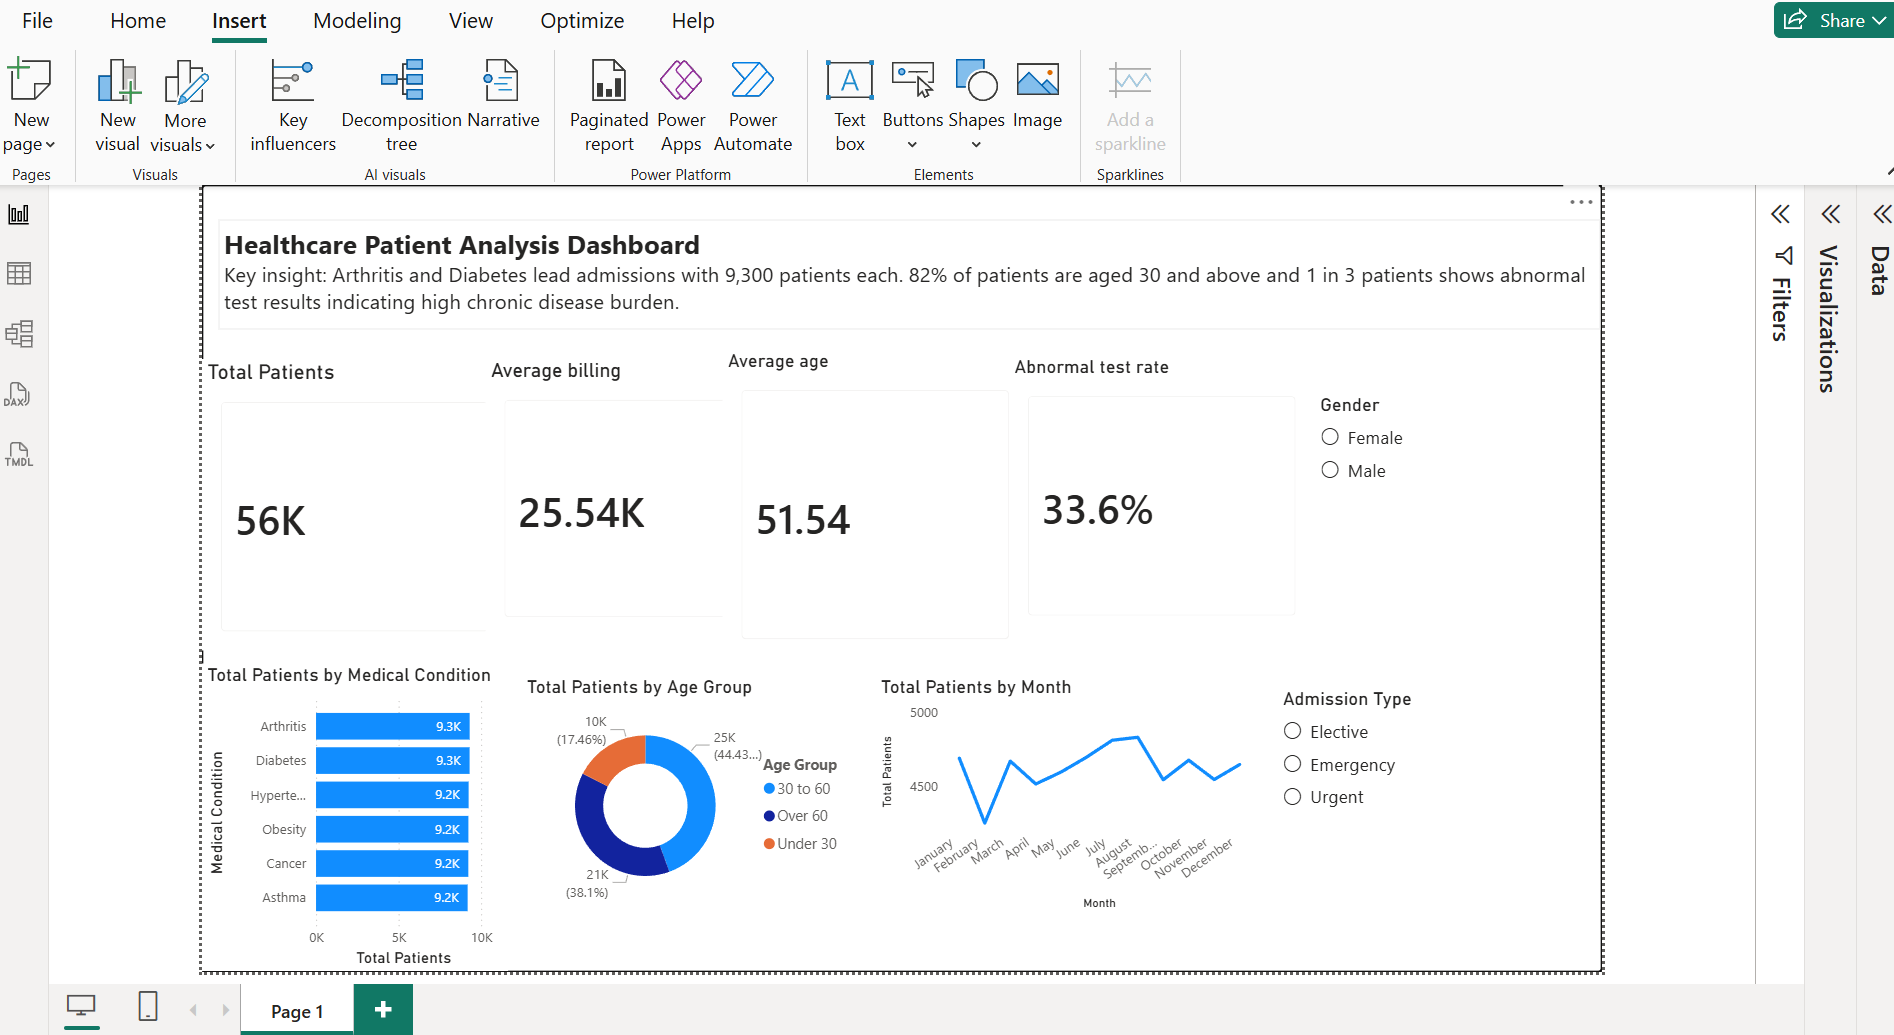

What the dashboard file says about the page in this screenshot:
{"tool":"powerbi","page":{"name":"Page 1","canvas":[1280,720],"ordinal":0},"visuals":[{"type":"cardVisual","title":"Total Patients","fields":{"Data":["healthcare_dataset.Total Patients"]},"box":[0,158.7,279.7,266.5],"z":0},{"type":"cardVisual","title":"Average billing","fields":{"Data":["healthcare_dataset.Average billing"]},"box":[258.9,158.7,247.6,253.2],"z":1000},{"type":"cardVisual","title":"Average age","fields":{"Data":["healthcare_dataset.Average age"]},"box":[476.2,151.2,279.7,281.6],"z":2000},{"type":"cardVisual","title":"Abnormal test rate","fields":{"Data":["healthcare_dataset.Abnoraml Test Rate"]},"box":[738.9,156.9,279.7,255.1],"z":3000},{"type":"clusteredBarChart","fields":{"Category":["healthcare_dataset.Medical Condition"],"Y":["healthcare_dataset.Total Patients"]},"box":[0,438.4,279.7,281.6],"z":4000},{"type":"donutChart","fields":{"Category":["healthcare_dataset.Age Group"],"Y":["healthcare_dataset.Total Patients"]},"box":[292.9,478.1,279.7,149.3],"z":5000},{"type":"lineChart","fields":{"Category":["healthcare_dataset.Date of Admission.Variation.Date Hierarchy.Month"],"Y":["healthcare_dataset.Total Patients"]},"box":[616.1,478.1,279.7,149.3],"z":6000},{"type":"listSlicer","fields":{"Values":["healthcare_dataset.Admission Type"]},"box":[960,478.1,279.7,149.3],"z":7000},{"type":"listSlicer","fields":{"Values":["healthcare_dataset.Gender"]},"box":[1052.6,209.8,172,149.3],"z":8000},{"type":"textbox","box":[15.1,32.1,1264.3,100.2],"z":9000}]}

Visuals, with their boxes on the page's 1280x720 design canvas (x1, y1, x2, y2). These are canvas units, not pixel positions in the 1894x1035 screenshot, which may show the page scaled, cropped or inside an application window:
"Total Patients" cardVisual: 0 159 280 425
"Average billing" cardVisual: 259 159 506 412
"Average age" cardVisual: 476 151 756 433
"Abnormal test rate" cardVisual: 739 157 1019 412
clusteredBarChart - healthcare_dataset.Medical Condition x healthcare_dataset.Total Patients: 0 438 280 720
donutChart - healthcare_dataset.Age Group x healthcare_dataset.Total Patients: 293 478 573 627
lineChart - healthcare_dataset.Date of Admission.Variation.Date Hierarchy.Month x healthcare_dataset.Total Patients: 616 478 896 627
listSlicer - healthcare_dataset.Admission Type: 960 478 1240 627
listSlicer - healthcare_dataset.Gender: 1053 210 1225 359
textbox: 15 32 1279 132
